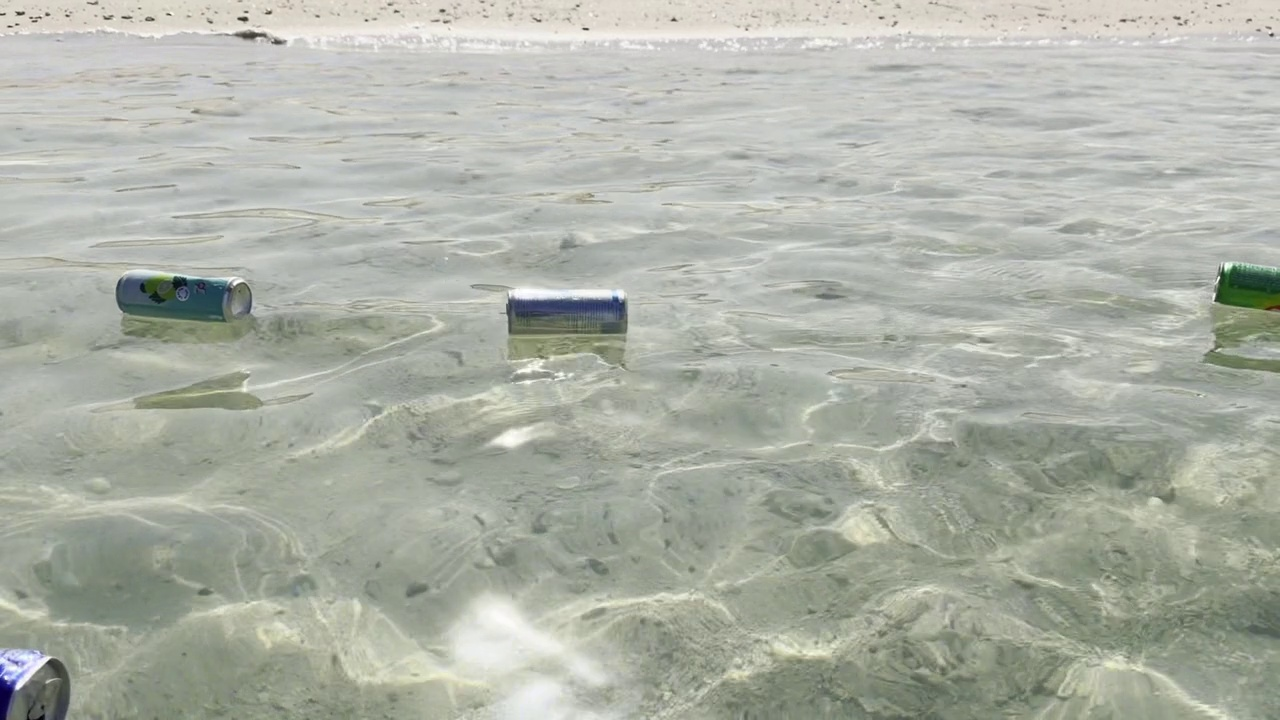debris: (102, 256, 265, 326), (500, 276, 638, 345), (0, 644, 92, 720), (1205, 256, 1228, 310)
